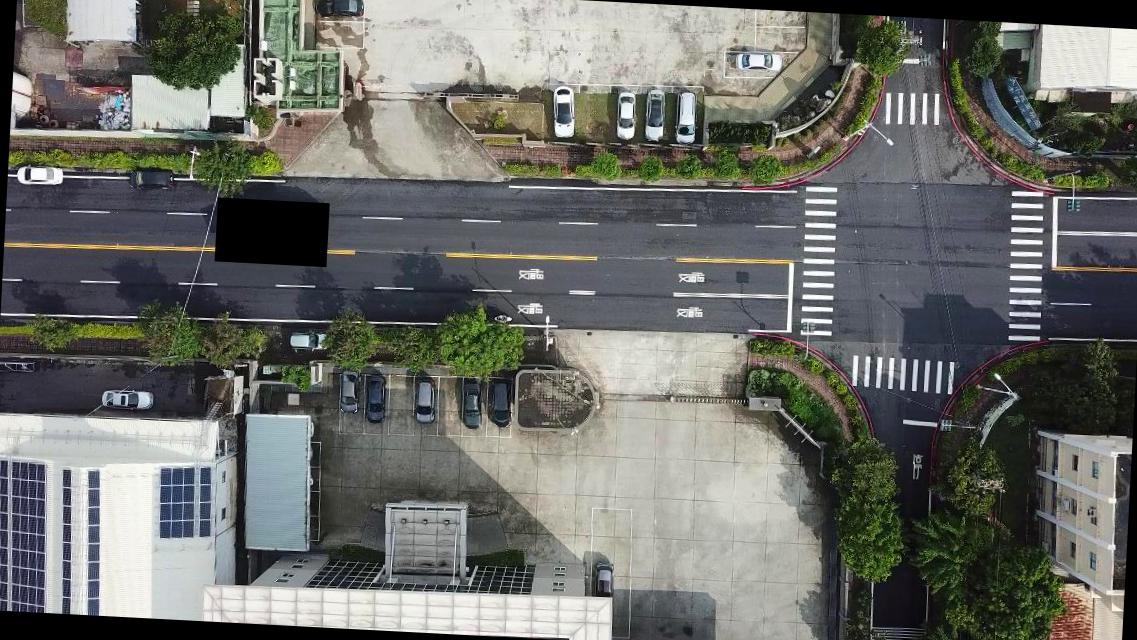vehicle: (550, 86, 578, 140), (673, 92, 700, 146), (486, 380, 512, 433), (612, 90, 638, 141), (644, 89, 667, 146), (458, 380, 484, 430), (100, 388, 152, 413), (128, 168, 177, 194), (412, 376, 436, 425), (364, 374, 387, 424), (588, 560, 616, 600), (311, 0, 364, 21), (337, 371, 360, 416), (17, 165, 64, 187), (733, 51, 782, 72), (287, 330, 329, 352)
